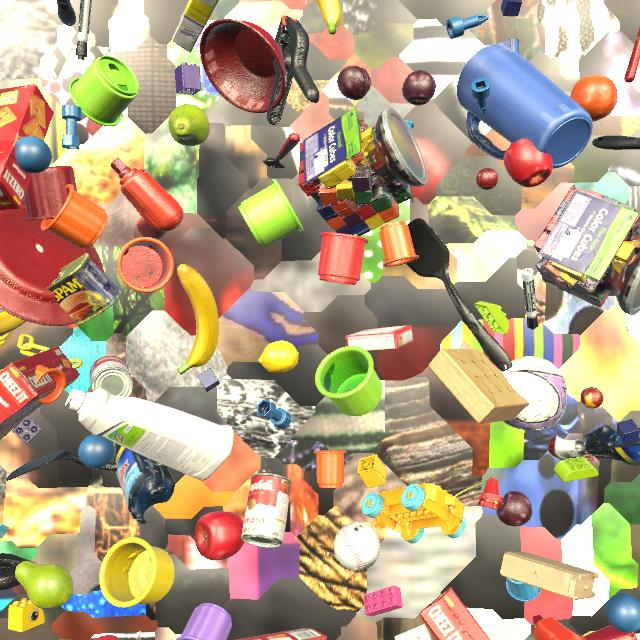ycb_003_cracker_box: (0, 346, 80, 440), (0, 84, 54, 210), (420, 587, 491, 640), (235, 628, 327, 640)
ycb_004_sugar_box: (172, 0, 219, 52)
ycb_005_tomato_soup_can: (241, 473, 292, 548), (90, 355, 133, 397)
ycb_009_gelatin_box: (345, 325, 413, 351)
ycb_010_potted_meat_can: (46, 253, 122, 326)
ycb_011_banana: (177, 264, 219, 375), (0, 297, 36, 336), (316, 0, 342, 35)
ycb_012_strawberry: (93, 635, 119, 640)
ycb_013_apple: (195, 511, 244, 561), (504, 138, 553, 187)
ycb_014_lemon: (258, 341, 299, 374)
ycb_016_pear: (15, 561, 73, 609), (168, 104, 210, 146)
ycb_017_orange: (570, 75, 618, 122)
ycb_018_plum: (496, 491, 532, 526), (402, 70, 436, 106), (337, 65, 371, 100)
